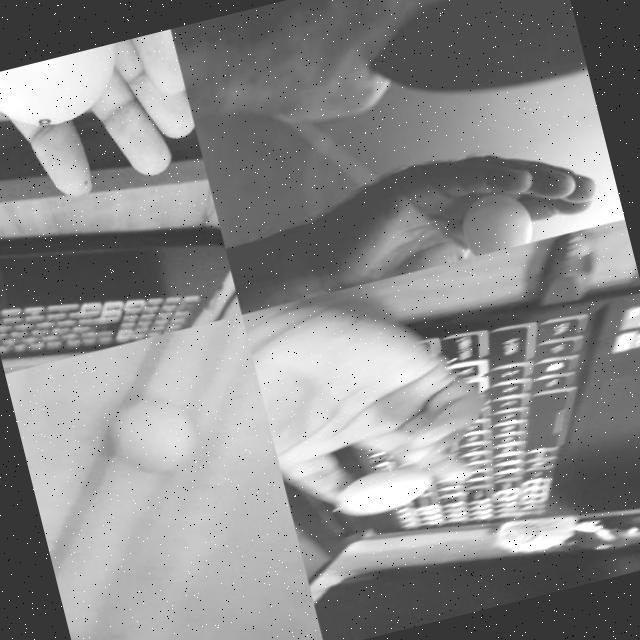ping-pong-ball: (0, 41, 130, 142), (106, 393, 198, 480), (329, 458, 431, 522), (452, 182, 534, 257)
